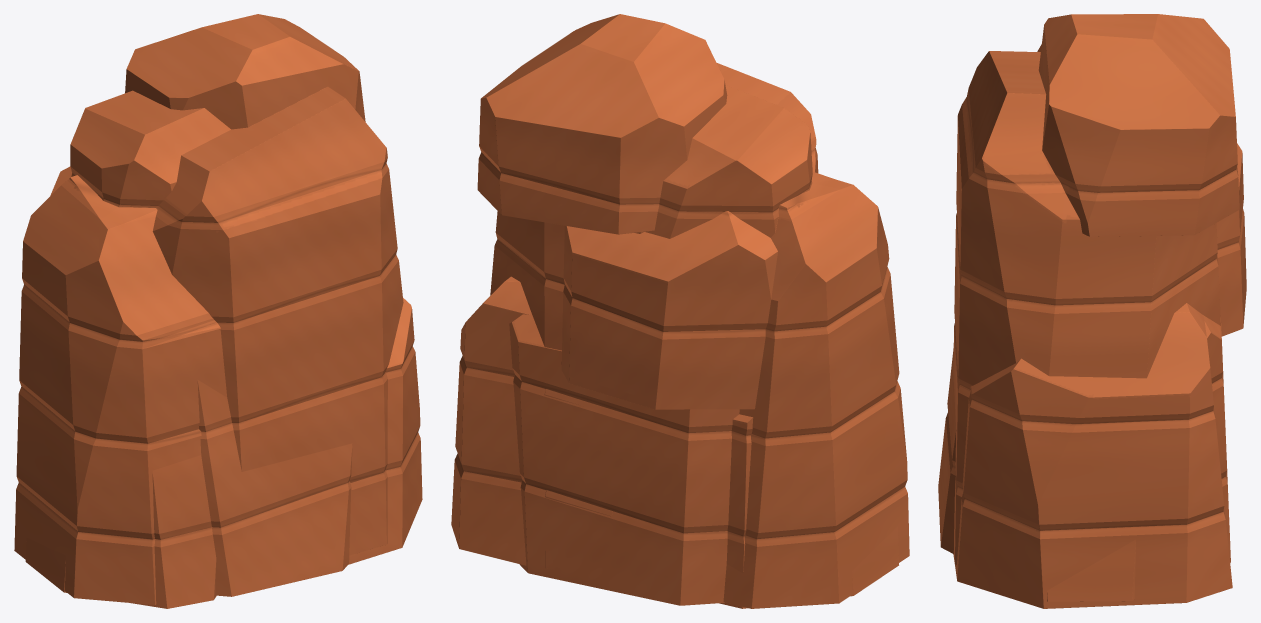
File: CanyonWall_Kit.fbx
3 renders of one model, left to right at view 1: azimuth 30°, elevation 25°; view 2: azimuth 150°, elevation 25°; view 3: azimuth 270°, elevation 25°, orthographic. The views are drawn at different scales.
Parts seen in each view (by area): view 1: CanyonWall_B, CanyonWall_A, CanyonWall_Corner; view 2: CanyonWall_A, CanyonWall_Corner, CanyonWall_B; view 3: CanyonWall_B, CanyonWall_A, CanyonWall_Corner.
Boxes of the visible parts, x1=… form: CanyonWall_B: x1=25, y1=14, x2=403, y2=608; CanyonWall_A: x1=14, y1=90, x2=422, y2=604; CanyonWall_Corner: x1=50, y1=166, x2=352, y2=596; CanyonWall_A: x1=451, y1=85, x2=909, y2=608; CanyonWall_Corner: x1=509, y1=211, x2=777, y2=605; CanyonWall_B: x1=477, y1=14, x2=898, y2=608; CanyonWall_B: x1=953, y1=14, x2=1239, y2=601; CanyonWall_A: x1=953, y1=44, x2=1232, y2=608; CanyonWall_Corner: x1=938, y1=143, x2=1246, y2=562.
Bounding box in the file's own units: 32 × 41 × 22.
3 materials, 3 textured.
